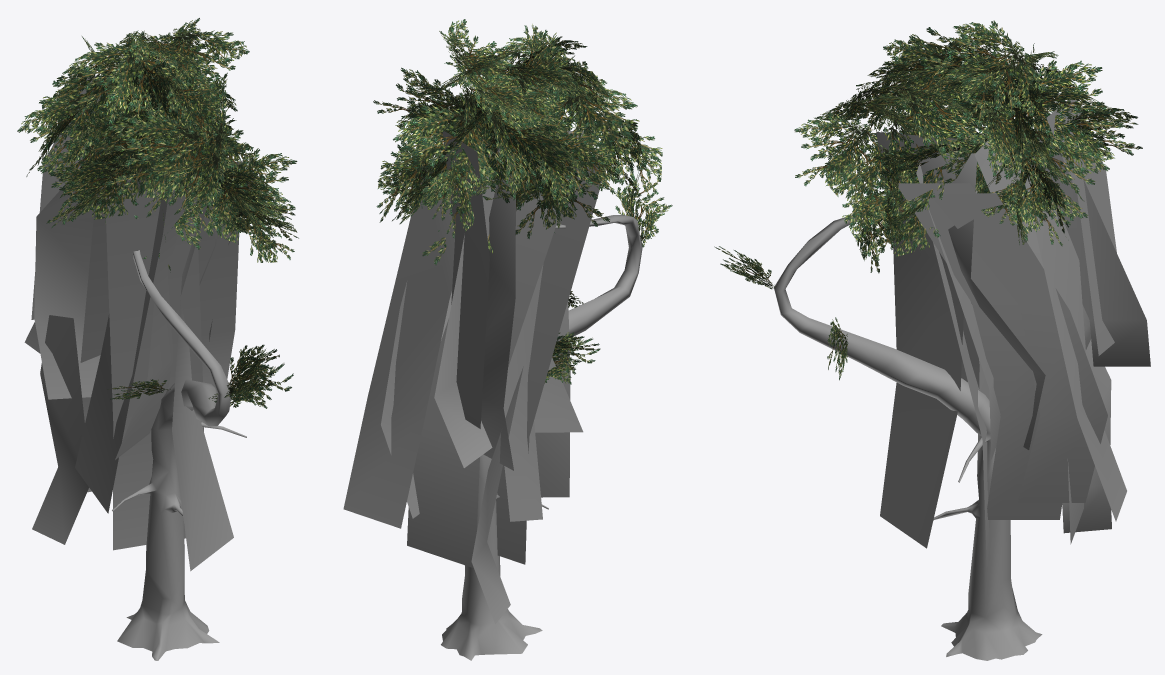
Rendered from siraptree_lod1.fbx.
3 views of the same model, side by side, from view 1: azimuth 30°, elevation 25°; view 2: azimuth 150°, elevation 25°; view 3: azimuth 270°, elevation 25° (orthographic).
Visible parts, largest first — view 1: Default_Layer; view 2: Default_Layer; view 3: Default_Layer.
Part boxes in pixels (x1=…): Default_Layer: x1=17, y1=18, x2=298, y2=660; Default_Layer: x1=343, y1=19, x2=672, y2=660; Default_Layer: x1=714, y1=20, x2=1150, y2=660.
Size of the model in its own units: 499 by 1156 by 767.
